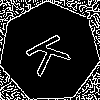K: (24, 27, 80, 78)
